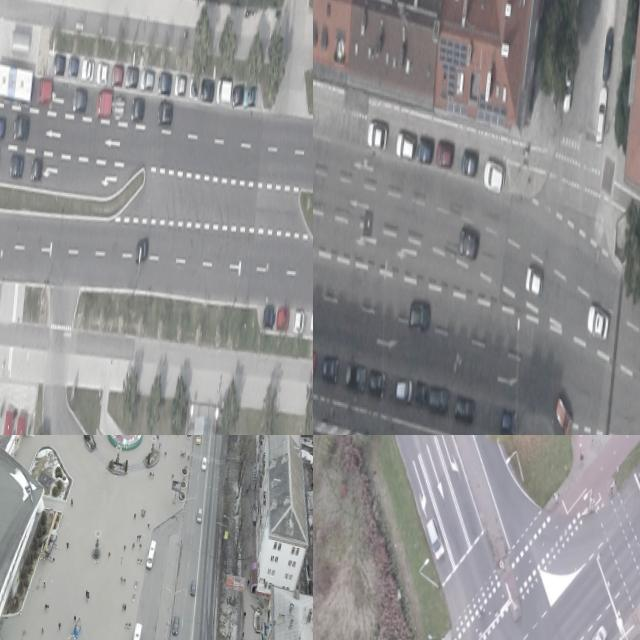UAI: (422, 517, 447, 561), (585, 301, 610, 343), (552, 393, 574, 435), (482, 157, 506, 194), (408, 297, 431, 331), (457, 225, 480, 259), (594, 86, 607, 144), (562, 53, 575, 111), (428, 384, 450, 415), (524, 265, 544, 299), (454, 393, 475, 424), (366, 122, 388, 151), (344, 362, 366, 391), (602, 27, 614, 78), (395, 131, 416, 160), (367, 367, 386, 399), (460, 146, 479, 176), (416, 134, 434, 164), (321, 353, 339, 383), (436, 139, 455, 167), (394, 375, 413, 403), (95, 89, 112, 119), (12, 113, 30, 141), (500, 407, 517, 435), (156, 99, 173, 126), (36, 77, 52, 105), (216, 78, 232, 105), (71, 87, 87, 112), (584, 622, 606, 640), (135, 236, 149, 264), (130, 96, 145, 121), (157, 71, 172, 96), (262, 302, 276, 328), (275, 305, 289, 330), (415, 380, 428, 406), (112, 94, 124, 122), (292, 307, 304, 335), (243, 83, 257, 107), (8, 156, 23, 178), (30, 157, 43, 182), (200, 78, 214, 101), (231, 83, 244, 106), (81, 58, 94, 81), (139, 69, 153, 90), (125, 65, 138, 87), (53, 53, 66, 75), (174, 73, 186, 95), (96, 62, 108, 84), (67, 55, 79, 77), (110, 66, 123, 86), (170, 613, 180, 638), (189, 76, 199, 98), (188, 578, 197, 598), (196, 507, 203, 523), (201, 456, 208, 471), (309, 309, 313, 333), (0, 115, 4, 138)
car: (0, 59, 34, 107)
harvester: (145, 537, 158, 571), (129, 621, 141, 640), (194, 435, 203, 445)
